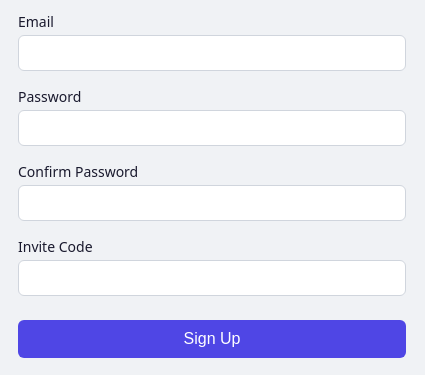
Test: SignupForm › shows success message after successful signup
The image size is (425, 375).
Type "test@example.com" into the field labelled "Email" at (212, 53), box top-left (18, 35), bottom-right (406, 71)
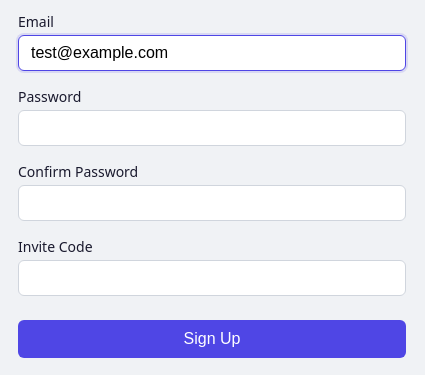
Type "password123" into the password field labelled "Password" at (212, 128), box top-left (18, 110), bottom-right (406, 146)
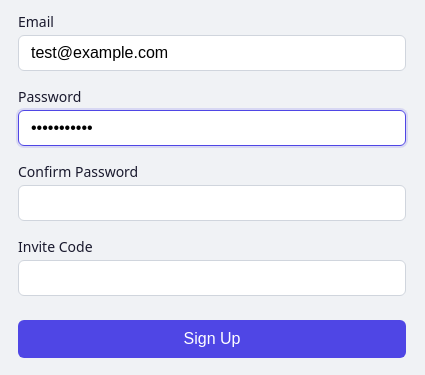
Type "password123" into the password field labelled "Confirm Password" at (212, 203), box top-left (18, 185), bottom-right (406, 221)
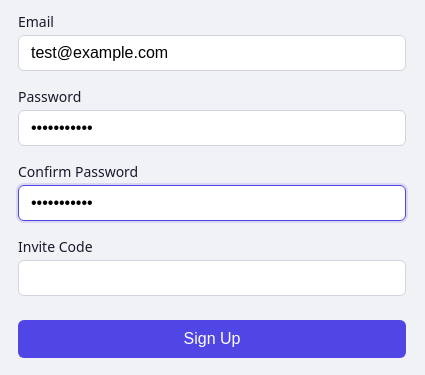
Type "ABC123" into the field labelled "Invite Code" at (212, 278), box top-left (18, 260), bottom-right (406, 296)
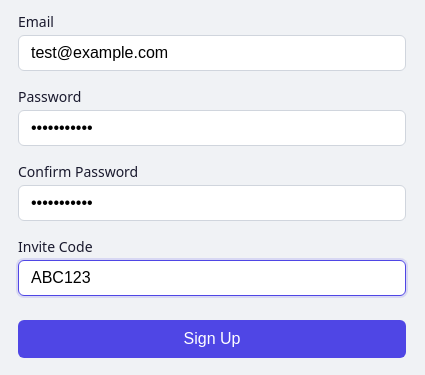
Click the button "Sign Up" at (212, 339), box top-left (18, 320), bottom-right (406, 358)
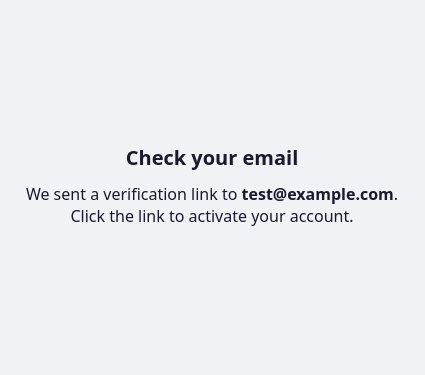
Result: the heading "Check your email" is shown at top-left (126, 144), bottom-right (298, 170)
Result: the text "test@example.com" is shown at top-left (242, 182), bottom-right (394, 204)
